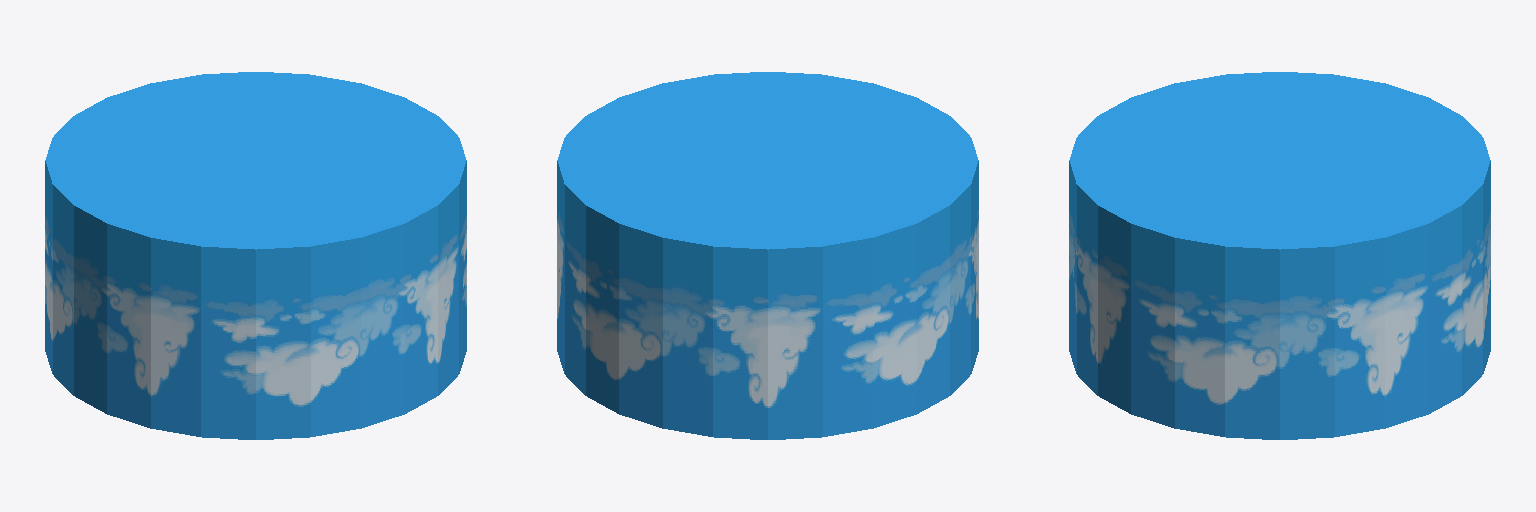
The picture shows the model from 3 angles: view 1: azimuth 30°, elevation 25°; view 2: azimuth 150°, elevation 25°; view 3: azimuth 270°, elevation 25°; orthographic projection.
Parts seen in each view (by area): view 1: map; view 2: map; view 3: map.
Part boxes in pixels (bbox=[...]): map: bbox=[45, 72, 466, 439]; map: bbox=[557, 72, 978, 439]; map: bbox=[1069, 72, 1490, 439].
Bounding box in the file's own units: 40000 × 20000 × 40000.
Materials: 2 (2 with a texture image).